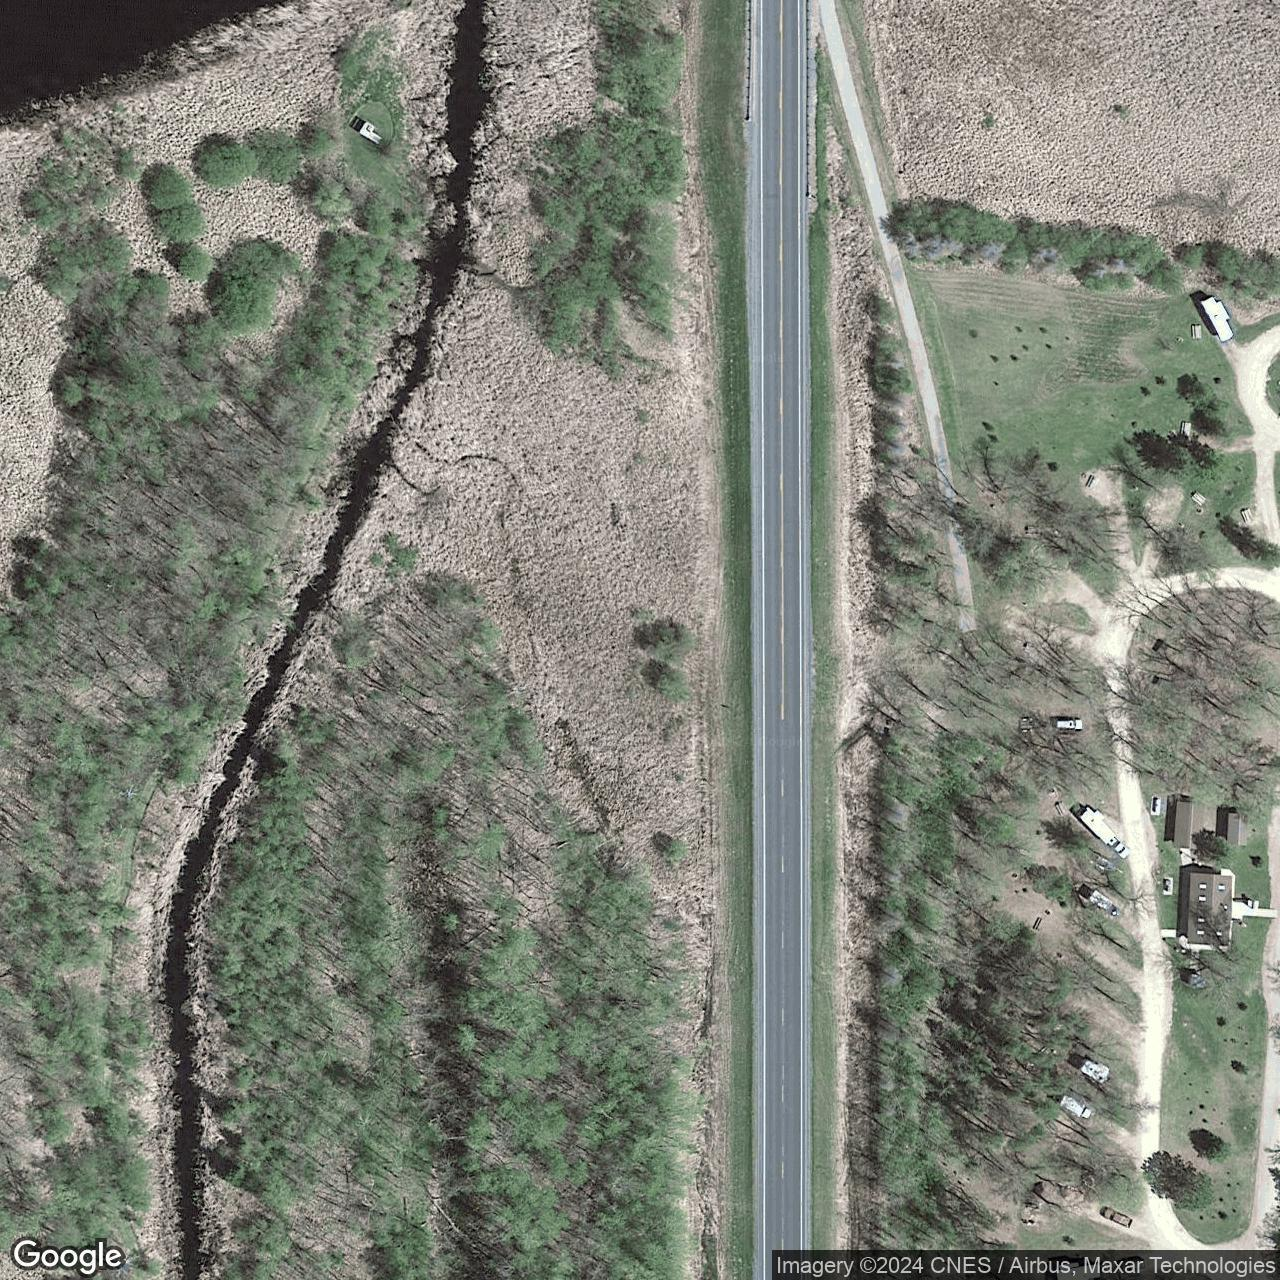Garage: (1173, 801, 1206, 850)
House: (1186, 872, 1233, 947)
Propane: (1150, 795, 1160, 813)
Trailer: (1200, 295, 1234, 342)
